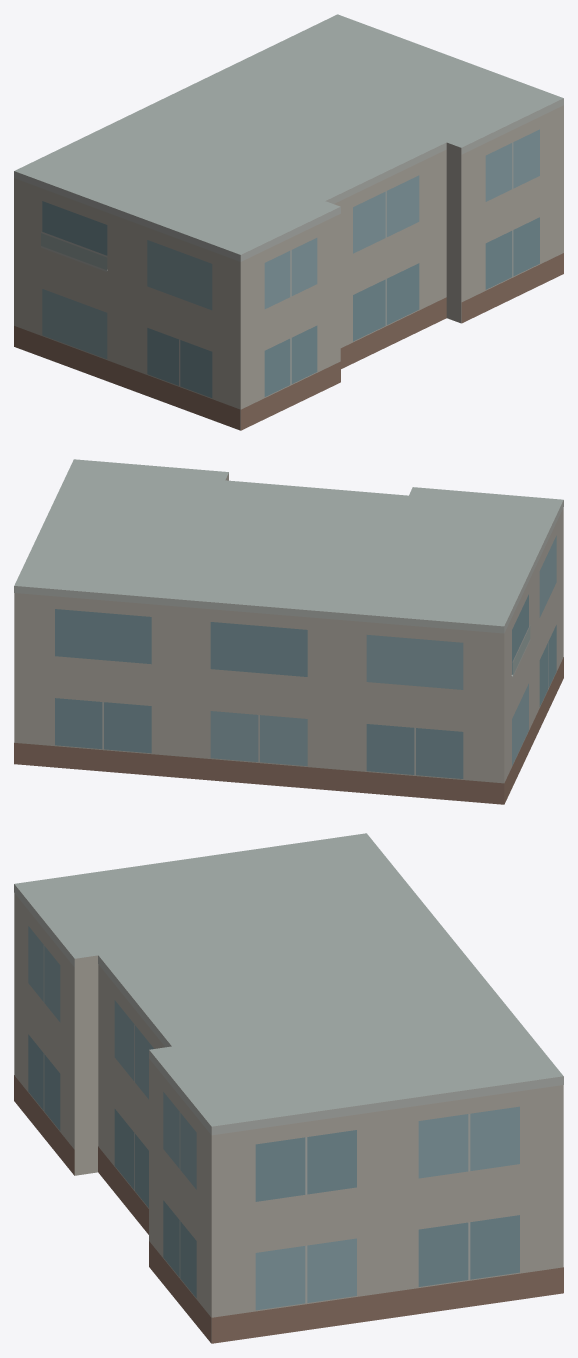
File: survey-upis-32721273.glb
The picture shows the model from 3 angles, top to bottom: view 1: azimuth 30°, elevation 25°; view 2: azimuth 150°, elevation 25°; view 3: azimuth 270°, elevation 25°; orthographic projection. The views are drawn at different scales.
Parts seen in each view (by area): view 1: survey-upis-32721273.tmp; view 2: survey-upis-32721273.tmp; view 3: survey-upis-32721273.tmp.
Part boxes in pixels (x1=…): survey-upis-32721273.tmp: x1=14, y1=14, x2=563, y2=430; survey-upis-32721273.tmp: x1=14, y1=459, x2=563, y2=804; survey-upis-32721273.tmp: x1=14, y1=833, x2=563, y2=1343.
Bounding box in the file's own units: 17.71 × 6.1 × 14.01.
